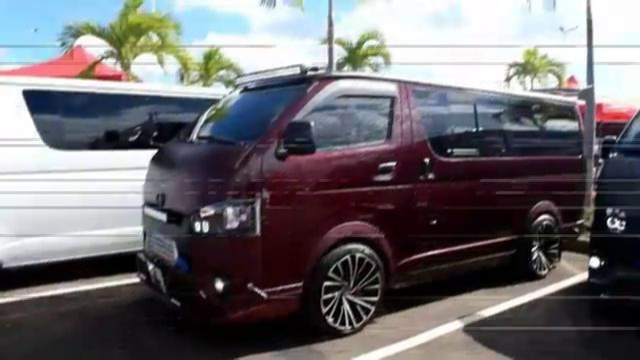van: (133, 69, 589, 326)
